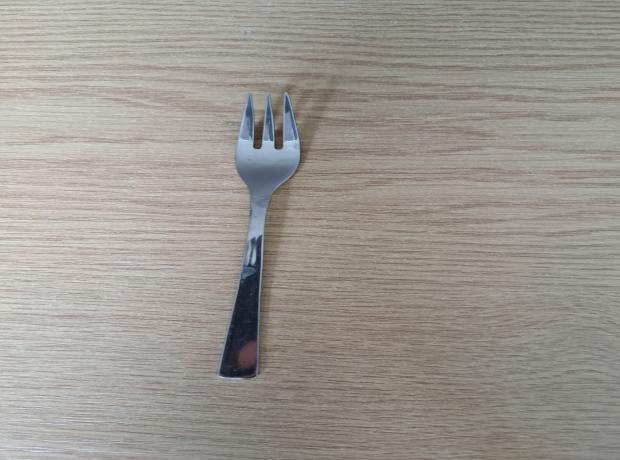metal: (217, 92, 305, 380)
